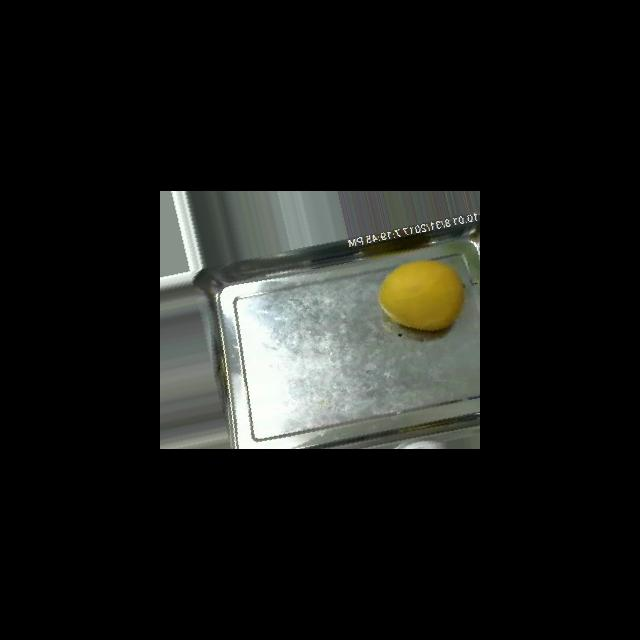Mango: (378, 259, 464, 331)
